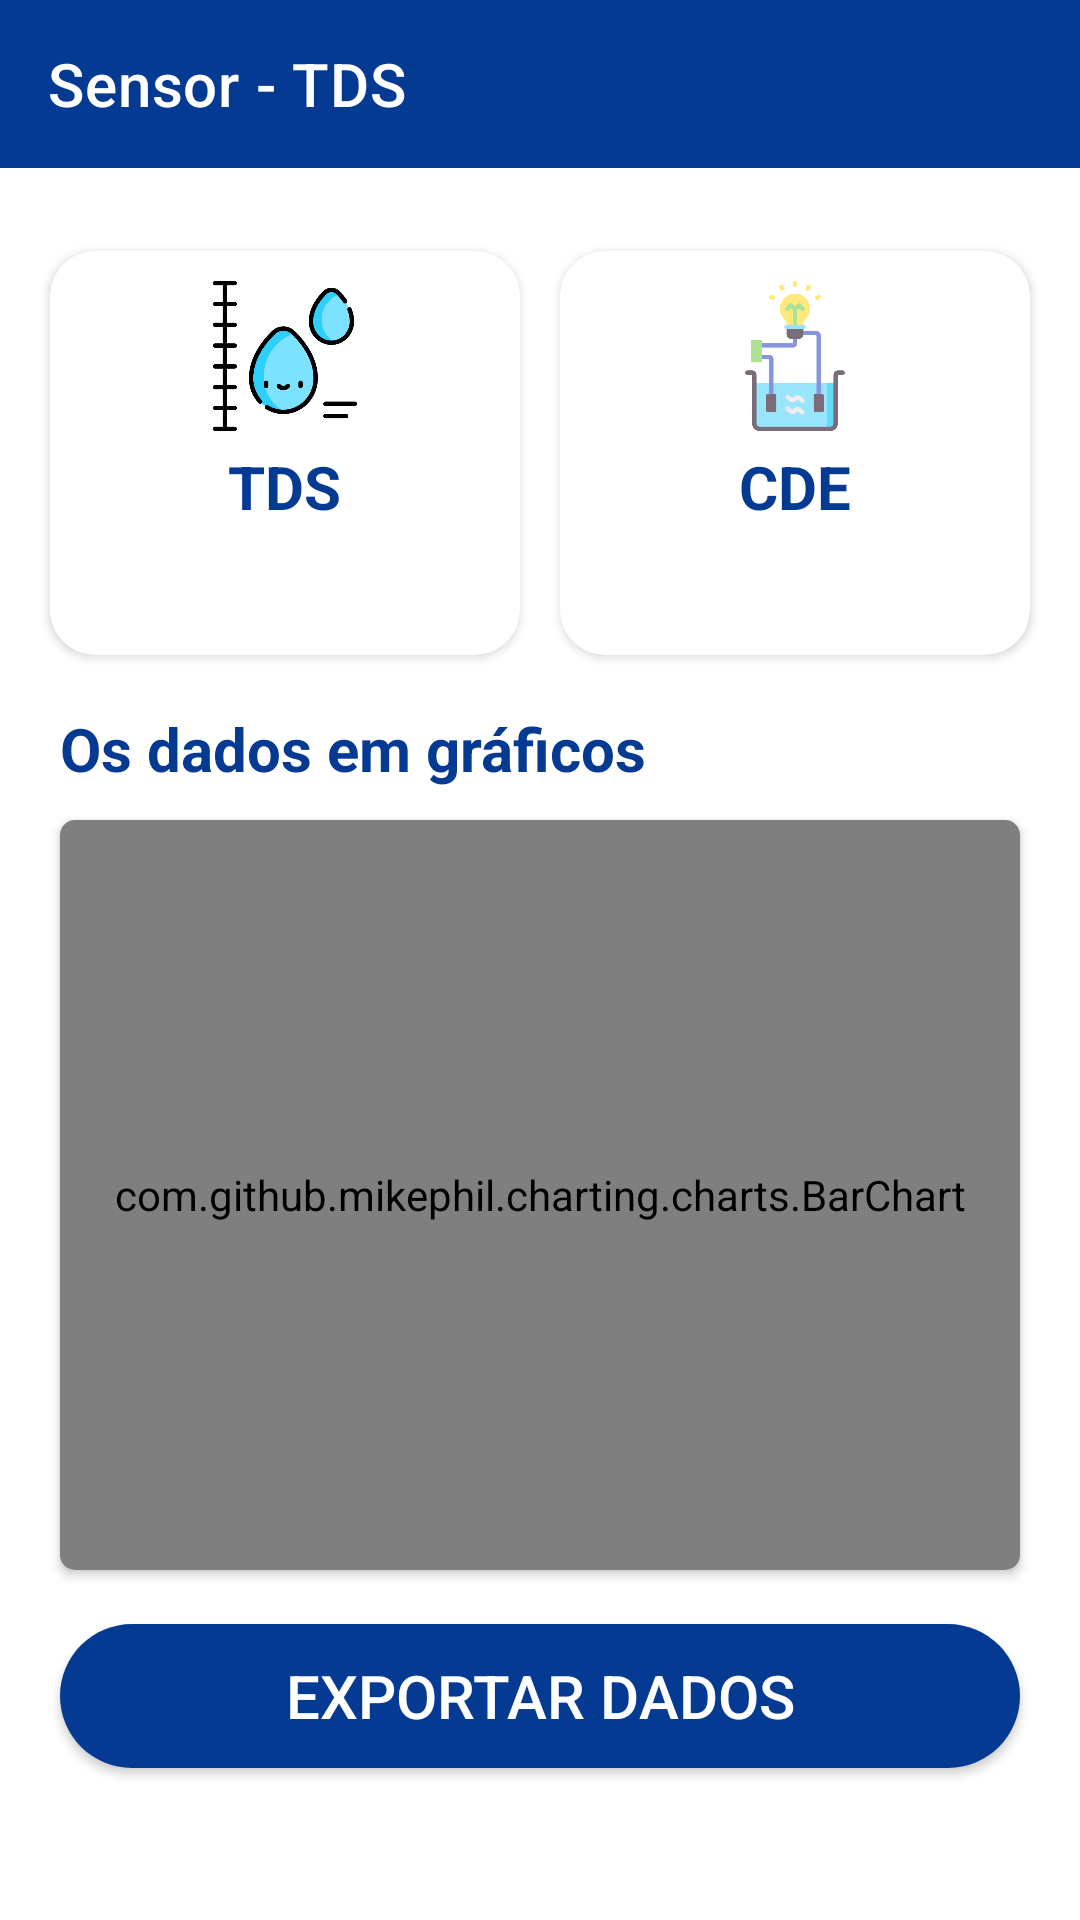

Where icons sit on this 1080w x 1920h app screen, as (x1,y1,x2,y2):
condutividade: (745,281,845,431)
qualidade: (213,281,357,431)
